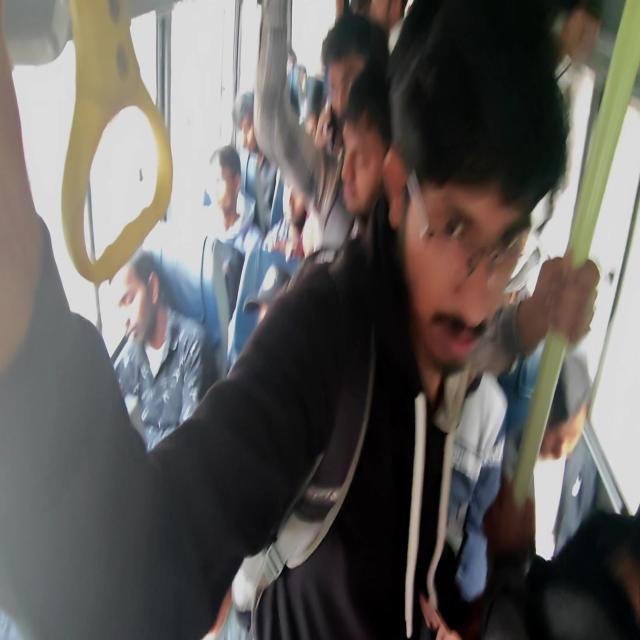person: (424, 144, 538, 382), (557, 352, 599, 482), (391, 0, 449, 90), (597, 514, 640, 632), (116, 262, 155, 347), (247, 282, 284, 344), (326, 70, 360, 109), (285, 46, 301, 89), (288, 184, 308, 218), (214, 172, 234, 186), (244, 128, 255, 147)
